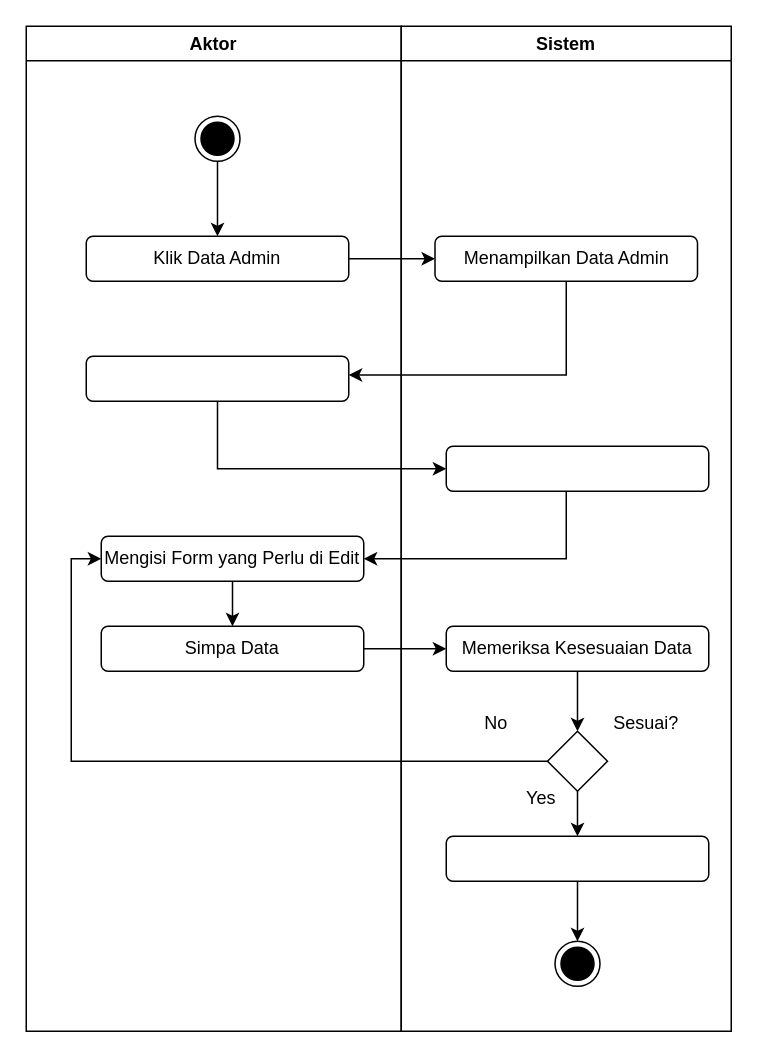
Image size: 758x1058. Some labels were removed from this diagram. The shapes that lost their labels are listed below. From the top down, each one's centre as x and y in pixels, then its label:
At pixel 217 378: "Klik Tambah Data".
At pixel 577 468: "Menampilkan Form Tambah Data Admin".
At pixel 577 858: "Menyimpan Data ke Database".
